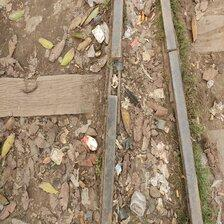railway-gap: (99, 55, 134, 99), (160, 39, 185, 62)
